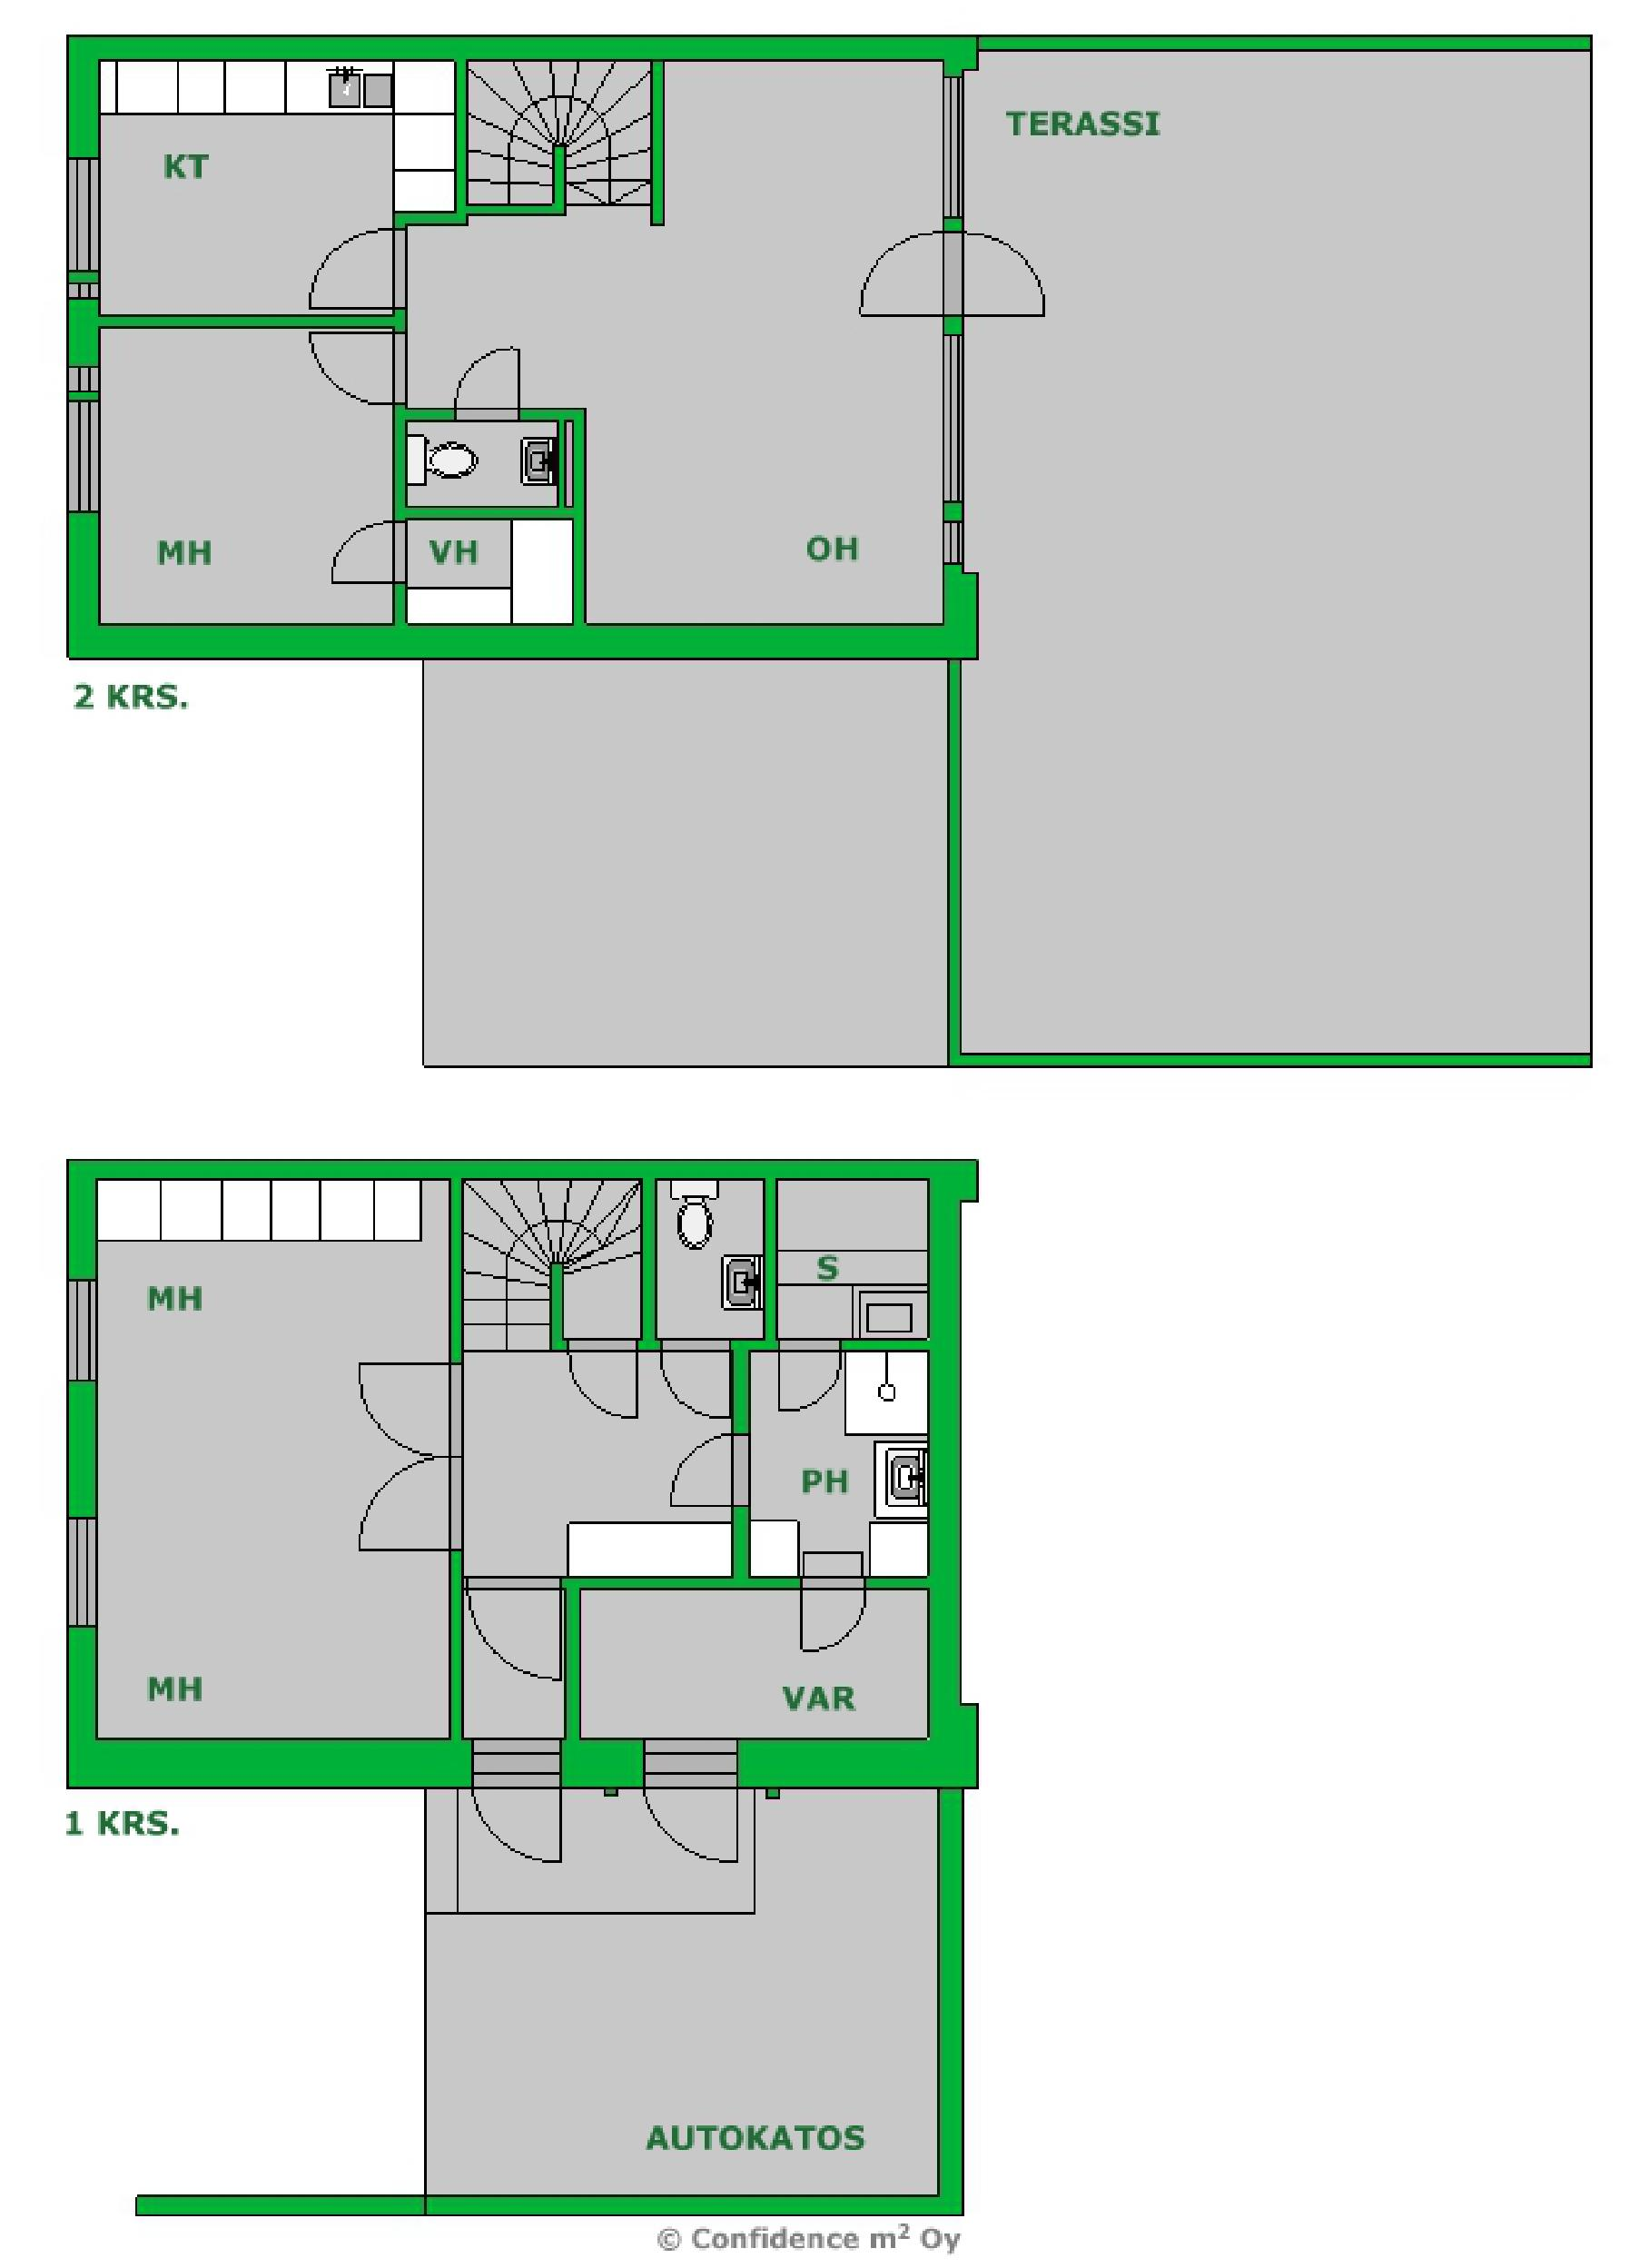door: (352, 1359, 477, 1557), (834, 227, 1049, 333), (627, 1754, 736, 1874), (456, 1583, 574, 1692), (468, 1754, 567, 1870), (303, 328, 423, 407), (799, 1555, 886, 1657), (563, 1317, 646, 1419), (650, 1439, 753, 1499), (303, 238, 401, 299), (653, 1342, 739, 1412), (320, 525, 398, 593), (769, 1340, 842, 1410), (445, 347, 518, 405)
window: (931, 328, 975, 556), (935, 81, 984, 222), (60, 157, 107, 269), (69, 377, 100, 511), (67, 1511, 99, 1629), (67, 1280, 100, 1373)
zone: (966, 55, 1586, 1055), (398, 65, 937, 623), (97, 1178, 452, 1736), (431, 1793, 930, 2189), (435, 674, 945, 1058), (97, 1194, 440, 1729), (88, 319, 398, 616), (93, 44, 393, 306), (474, 1347, 732, 1571), (576, 1585, 928, 1741), (394, 416, 574, 618), (761, 1358, 928, 1572), (463, 1183, 639, 1336), (782, 1180, 926, 1338), (662, 1173, 766, 1338), (477, 1576, 558, 1741)
